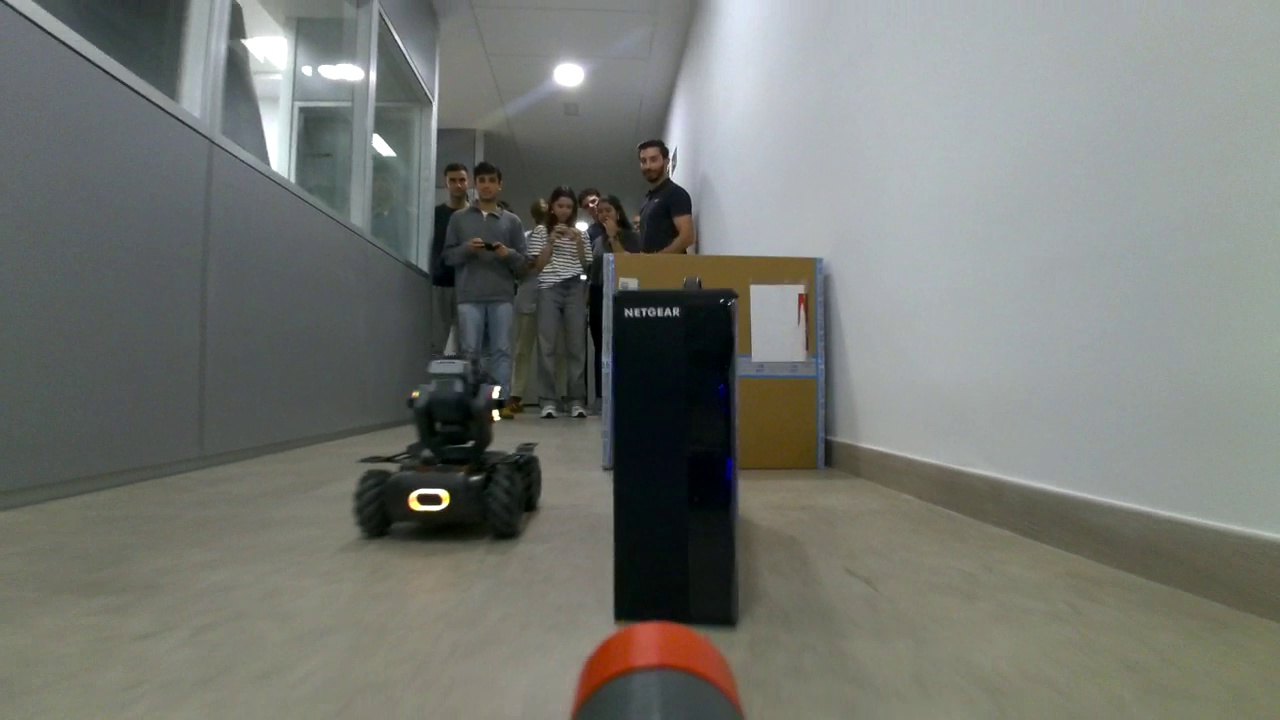robot: (356, 363, 545, 544)
